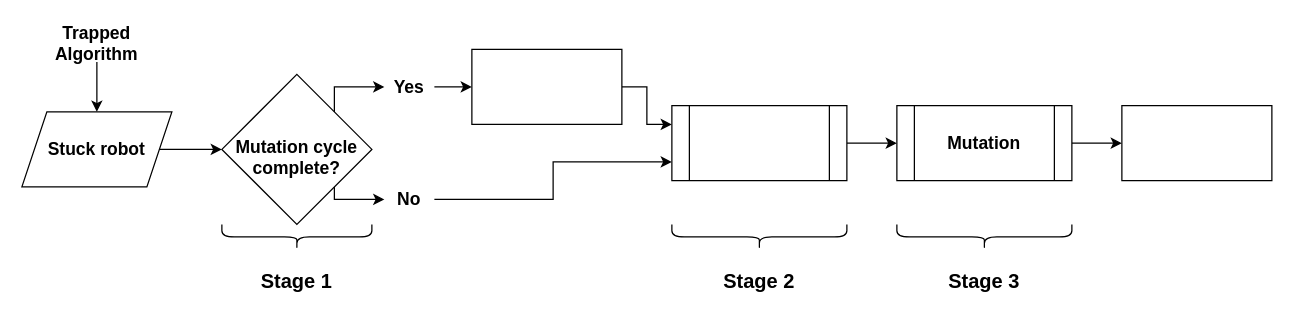
Some shapes in this 1294 by 320 pixel diagram are drawn without their labels. Each missing label, with the centre of its shape:
"Recombination" belongs at [759,142].
"Respawn" belongs at [1196,142].
"Select input robot" belongs at [546,86].
